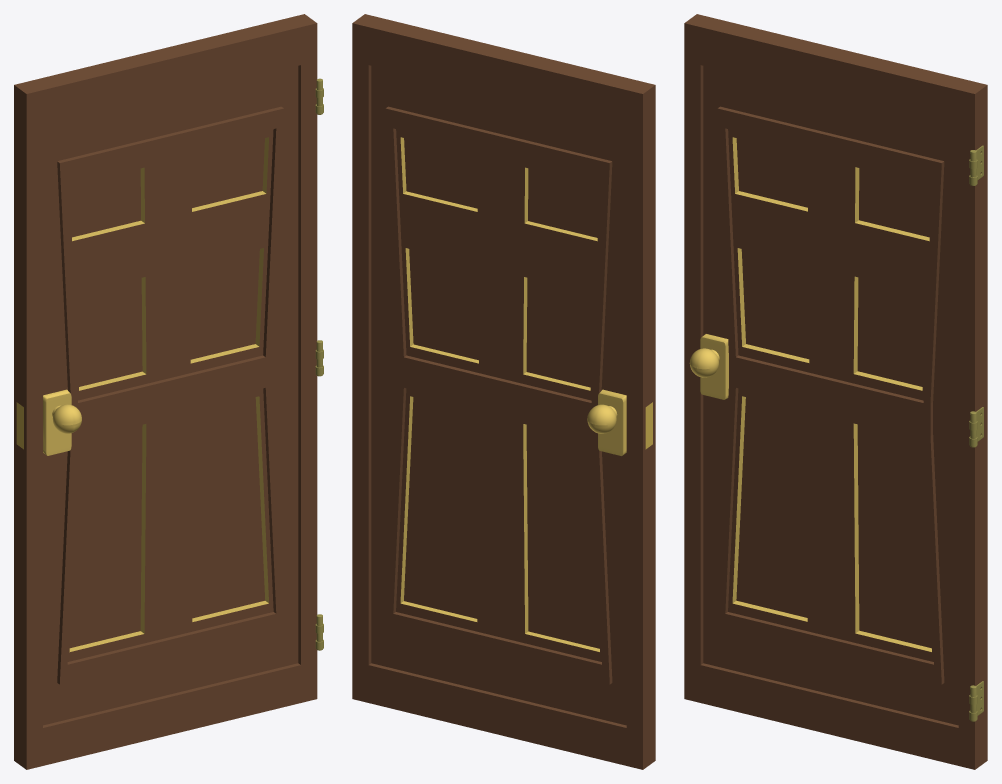
File: FrontDoor.fbx
3 renders of one model, left to right at view 1: azimuth 30°, elevation 25°; view 2: azimuth 150°, elevation 25°; view 3: azimuth 330°, elevation 25°, orthographic.
Parts seen in each view (by area): view 1: Cube.030, Cube.029, Cube.028, Cube.031; view 2: Cube.030, Cube.029, Cube.028, Cube.031; view 3: Cube.030, Cube.029, Cube.028, Cube.031.
Part boxes in pixels (x1=…): Cube.030: x1=14, y1=14, x2=317, y2=769; Cube.029: x1=69, y1=138, x2=265, y2=648; Cube.028: x1=69, y1=137, x2=268, y2=652; Cube.031: x1=43, y1=389, x2=81, y2=455; Cube.030: x1=352, y1=14, x2=655, y2=769; Cube.029: x1=404, y1=138, x2=599, y2=648; Cube.028: x1=400, y1=137, x2=599, y2=651; Cube.031: x1=587, y1=389, x2=626, y2=456; Cube.030: x1=684, y1=14, x2=987, y2=769; Cube.029: x1=736, y1=138, x2=931, y2=648; Cube.028: x1=732, y1=137, x2=931, y2=651; Cube.031: x1=689, y1=333, x2=728, y2=399.
Size of the model in its own units: 92.75 by 203 by 26.28.
